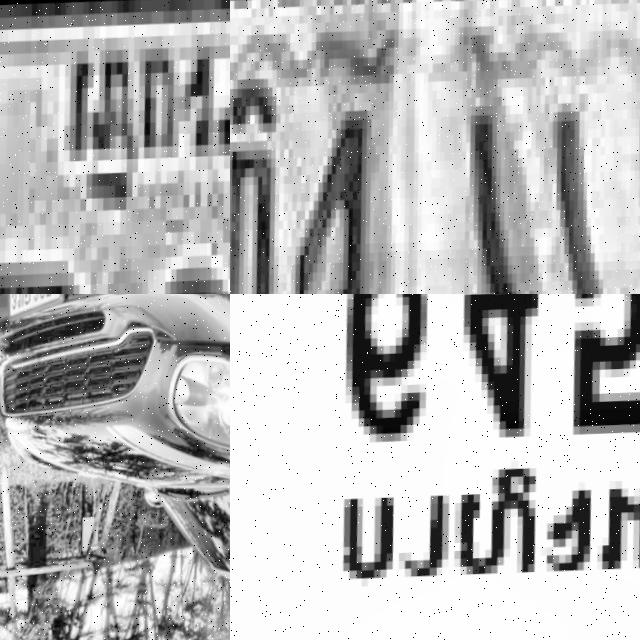license-plate: (230, 294, 640, 640), (230, 0, 640, 294), (0, 0, 230, 294), (5, 294, 70, 327)
